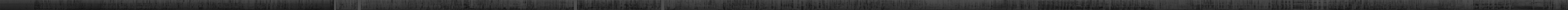Moan: (1055, 0, 1059, 10), (1288, 0, 1291, 10), (797, 0, 799, 10), (1285, 0, 1287, 10), (1061, 0, 1062, 10)
